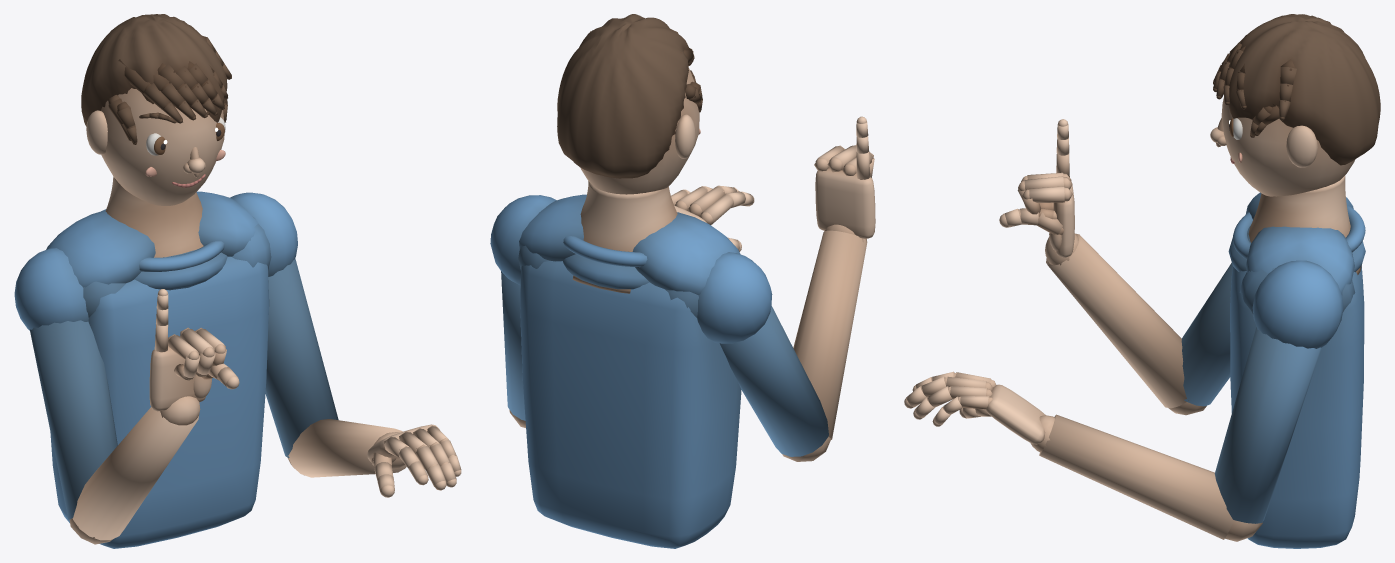
The picture shows the model from 3 angles, left to right: view 1: azimuth 30°, elevation 25°; view 2: azimuth 150°, elevation 25°; view 3: azimuth 270°, elevation 25°; orthographic projection.
Parts seen in each view (by area): view 1: LSC_Body; view 2: LSC_Body; view 3: LSC_Body.
Part boxes in pixels (bbox=[...]): LSC_Body: bbox=[14, 14, 461, 548]; LSC_Body: bbox=[490, 14, 875, 548]; LSC_Body: bbox=[904, 14, 1380, 548].
Size of the model in its own units: 0.4304 by 0.713 by 0.6104.
